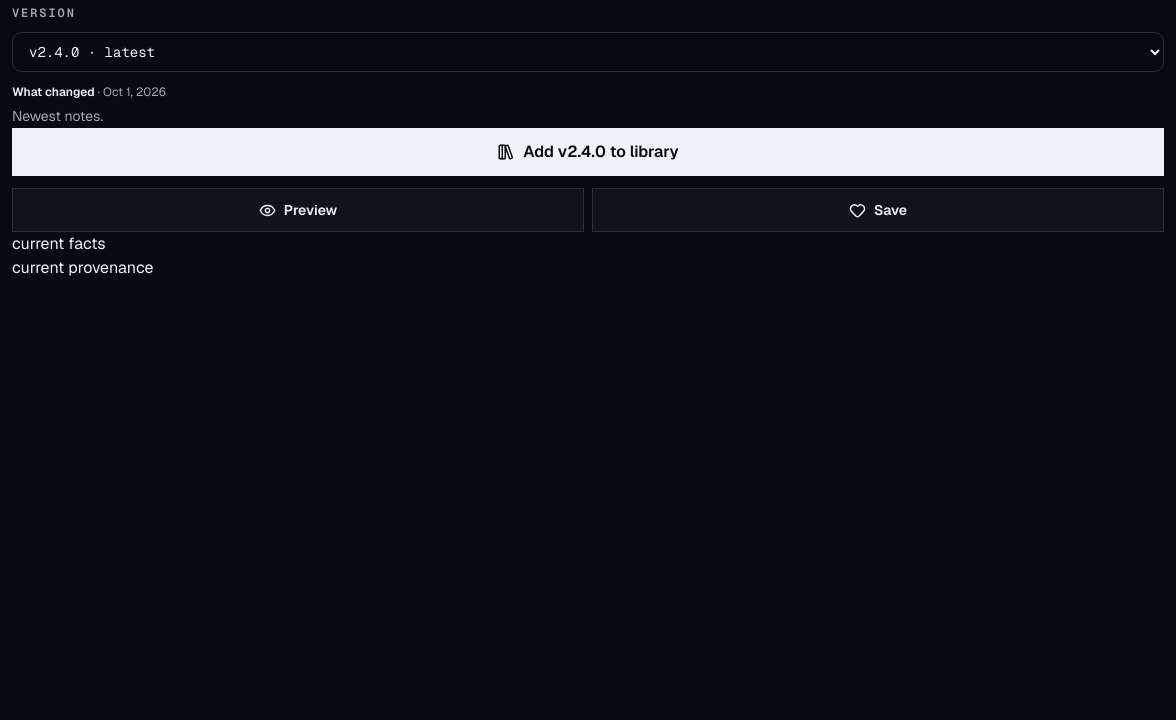
release selection › goes back to the page's own release without another request
Select "v2.3.0" in the dropdown labelled "Version" at coordinates (588, 52), box [12,32,1164,72]
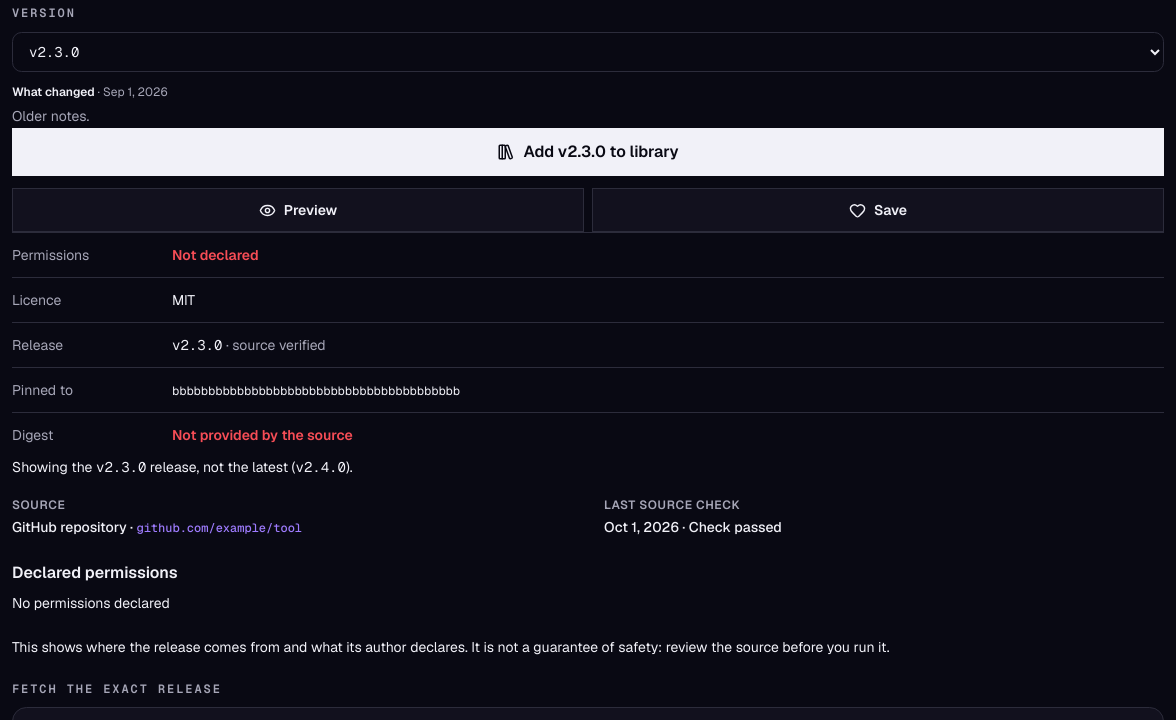
Select "v2.4.0 · latest" in the dropdown labelled "Version" at coordinates (588, 52), box [12,32,1164,72]
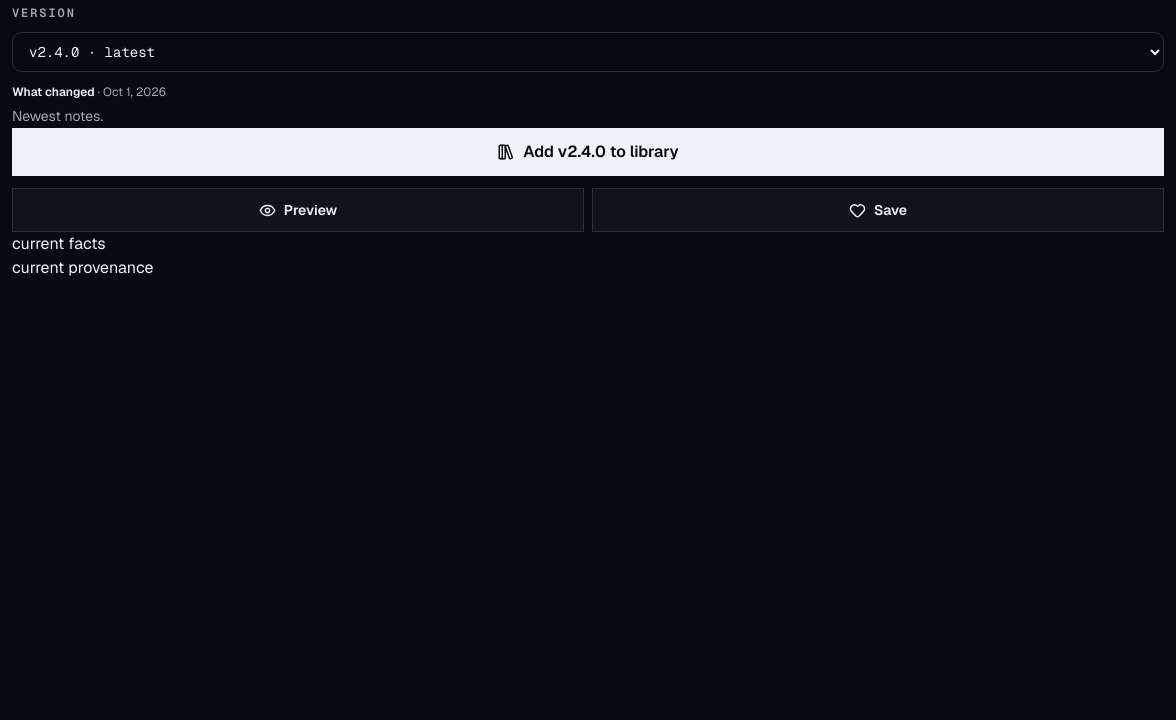
Expected: the button "Add v2.4.0 to library" is enabled, [12,128,1164,176]
Expected: the text "current provenance" is shown, [12,257,154,278]
